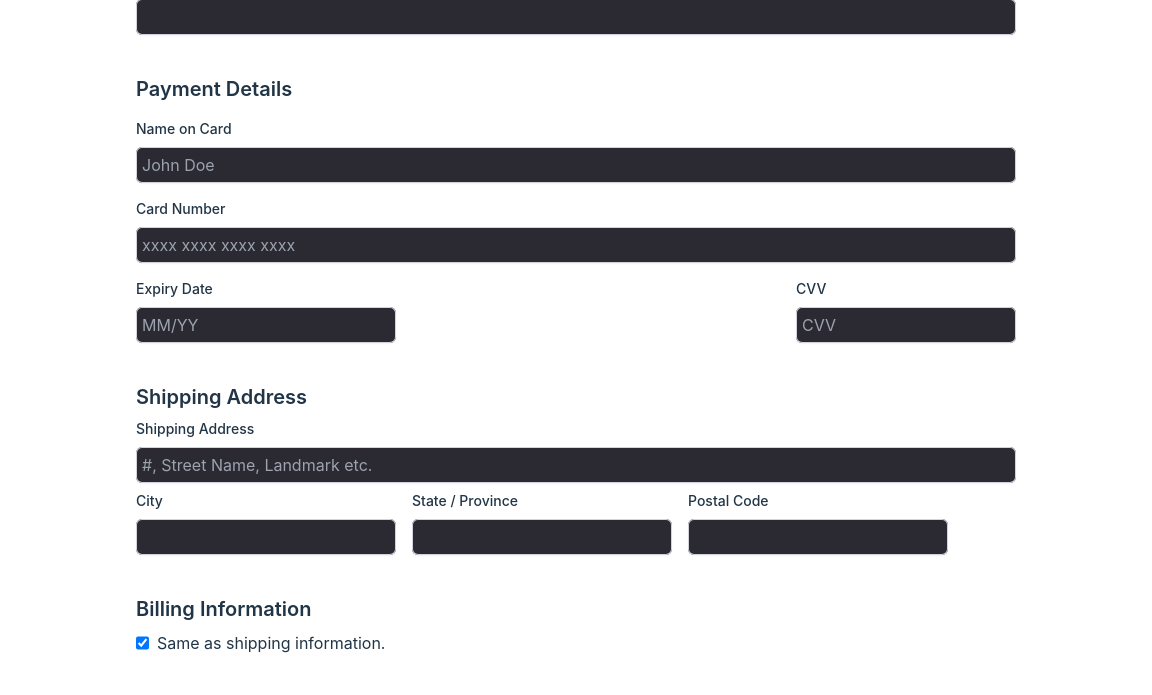
it: should render Billing Details when 'Same as shipping information' checkbox is unchecked › should render the label 'Payer Name'
This screenshot has width=1152, height=695.
(page scrolled)
Click the checkbox labelled "Same as shipping information.".
click(142, 643)  # box [136, 631, 149, 655]
(page scrolled)
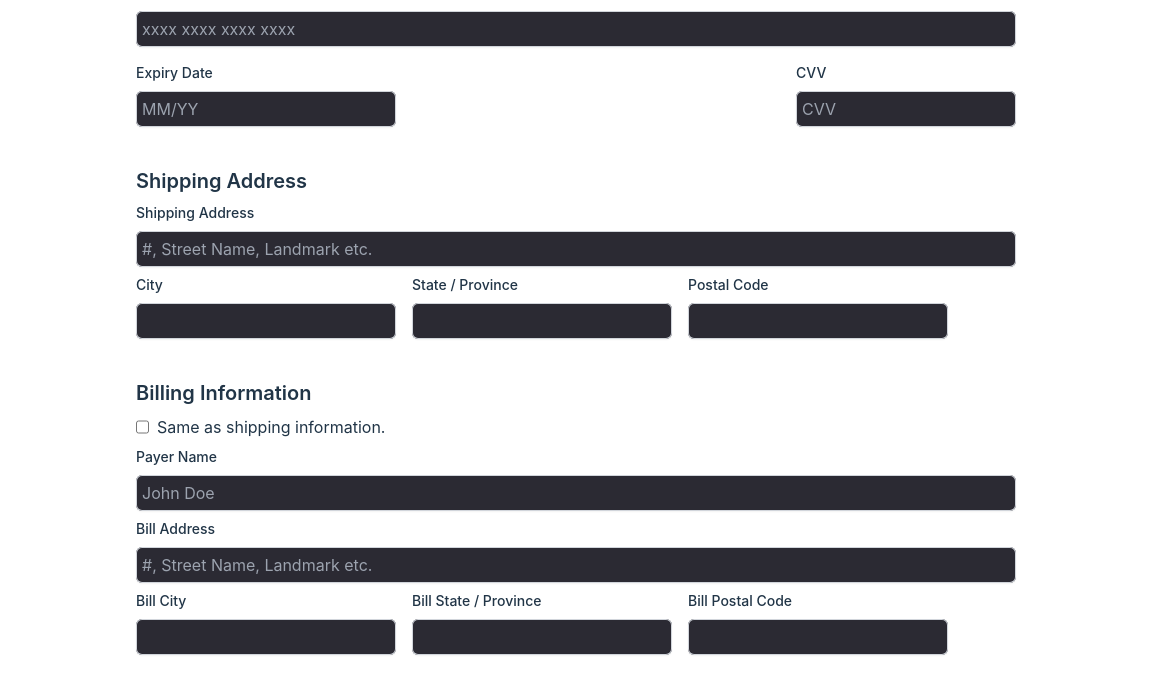
expect the field labelled "Payer Name" is shown: met, box [136, 475, 1016, 511]
